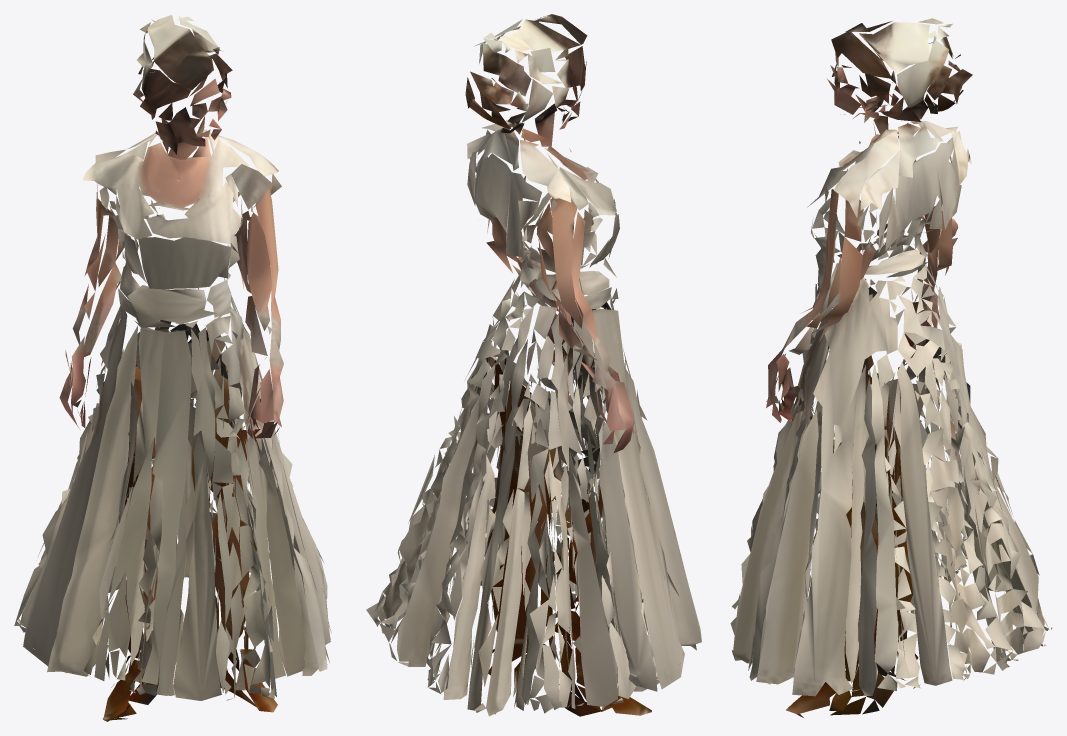
File: char_adult_f_simple.glb
3 views of the same model, side by side, from view 1: azimuth 30°, elevation 25°; view 2: azimuth 150°, elevation 25°; view 3: azimuth 270°, elevation 25° (orthographic). The views are drawn at different scales.
Parts seen in each view (by area): view 1: geometry_0; view 2: geometry_0; view 3: geometry_0.
Boxes of the visible parts, bbox=[...] form: geometry_0: bbox=[14, 15, 331, 721]; geometry_0: bbox=[366, 14, 701, 716]; geometry_0: bbox=[730, 18, 1052, 717].
Size of the model in its own units: 0.7745 by 1.7 by 0.7293.
1 material, 1 textured.
